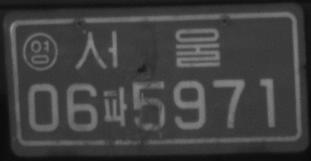0: (27, 82, 59, 133)
1: (253, 77, 284, 128)
5: (132, 80, 166, 131)
6: (65, 81, 98, 133)
7: (211, 77, 247, 129)
9: (172, 79, 207, 131)
영: (22, 32, 59, 71)
전남_D: (72, 27, 221, 70)
파: (102, 85, 128, 127)
